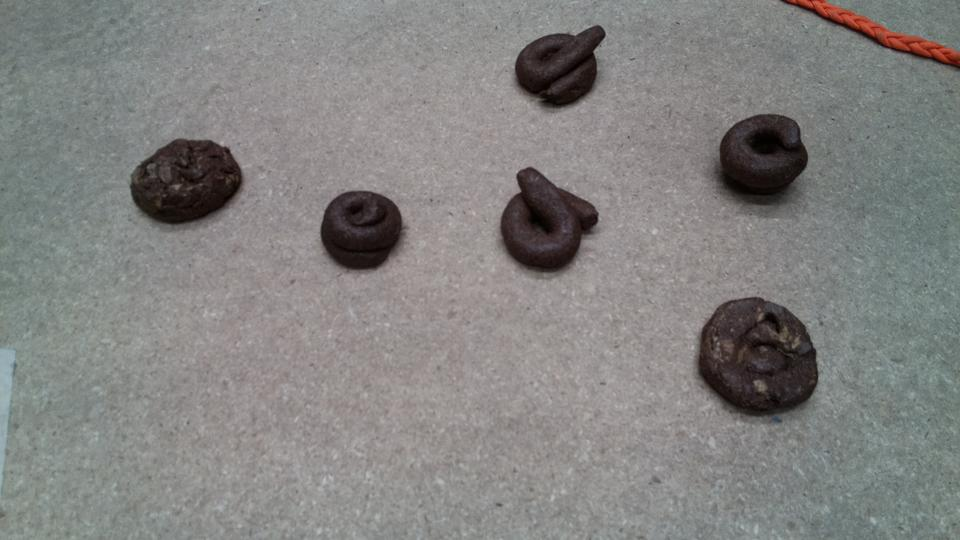poop: (689, 283, 833, 416), (485, 156, 604, 277), (127, 129, 243, 231), (712, 102, 812, 207), (505, 17, 614, 110), (318, 187, 406, 274)
